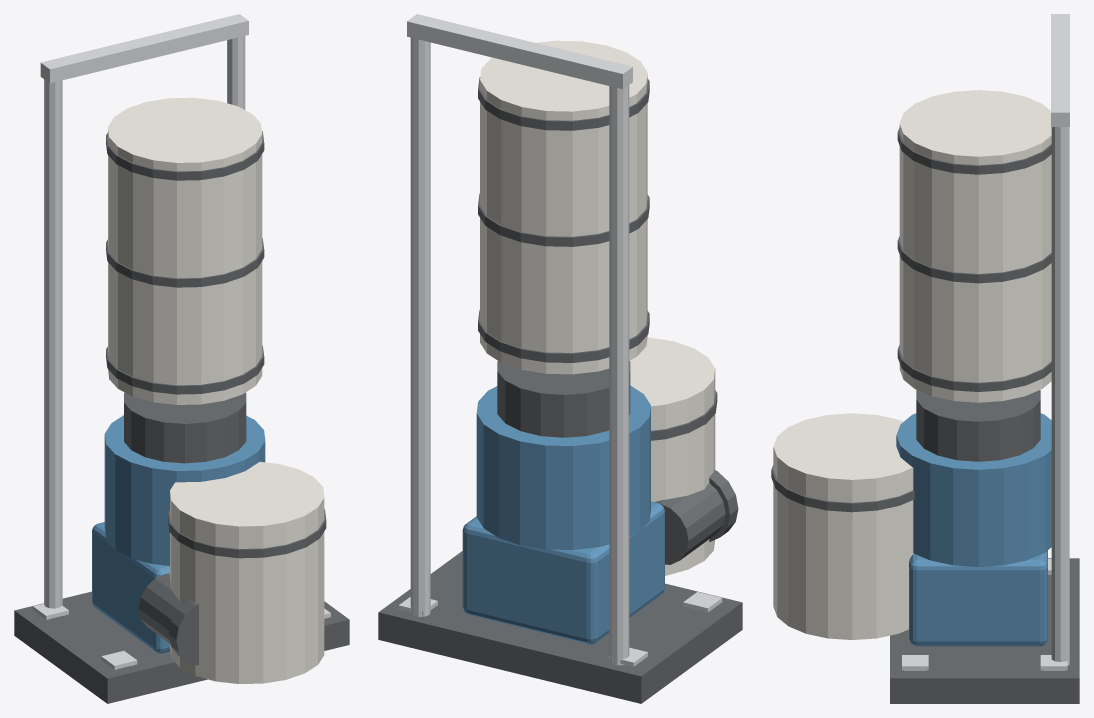
File: woodworking-workshop-and-joinery-woodworking-workshop--65fc7a83__34246.glb
3 views of the same model, side by side, from view 1: azimuth 30°, elevation 25°; view 2: azimuth 150°, elevation 25°; view 3: azimuth 270°, elevation 25° (orthographic). The views are drawn at different scales.
Parts seen in each view (by area): view 1: woodworking-workshop-and-joinery-dust-extractor; view 2: woodworking-workshop-and-joinery-dust-extractor; view 3: woodworking-workshop-and-joinery-dust-extractor.
Boxes of the visible parts, bbox=[...] form: woodworking-workshop-and-joinery-dust-extractor: bbox=[14, 14, 349, 703]; woodworking-workshop-and-joinery-dust-extractor: bbox=[378, 14, 742, 703]; woodworking-workshop-and-joinery-dust-extractor: bbox=[771, 14, 1079, 703].
Bounding box in the file's own units: 0.9 × 2.05 × 0.9761.
